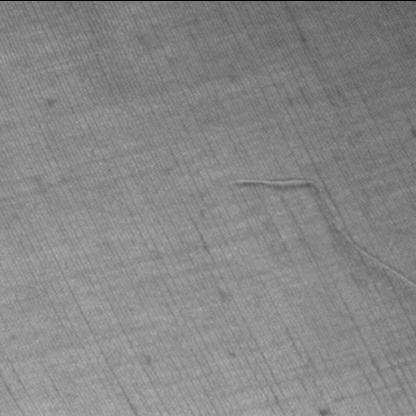objects: (228, 170, 416, 296)
